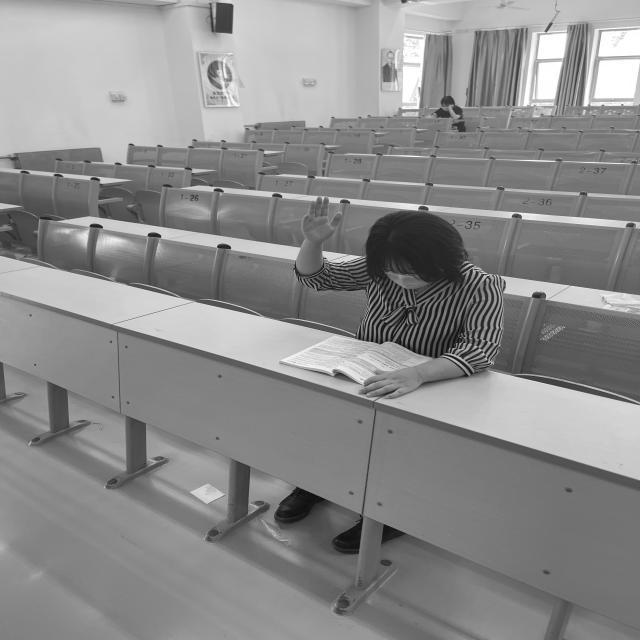study: (298, 196, 502, 397)
